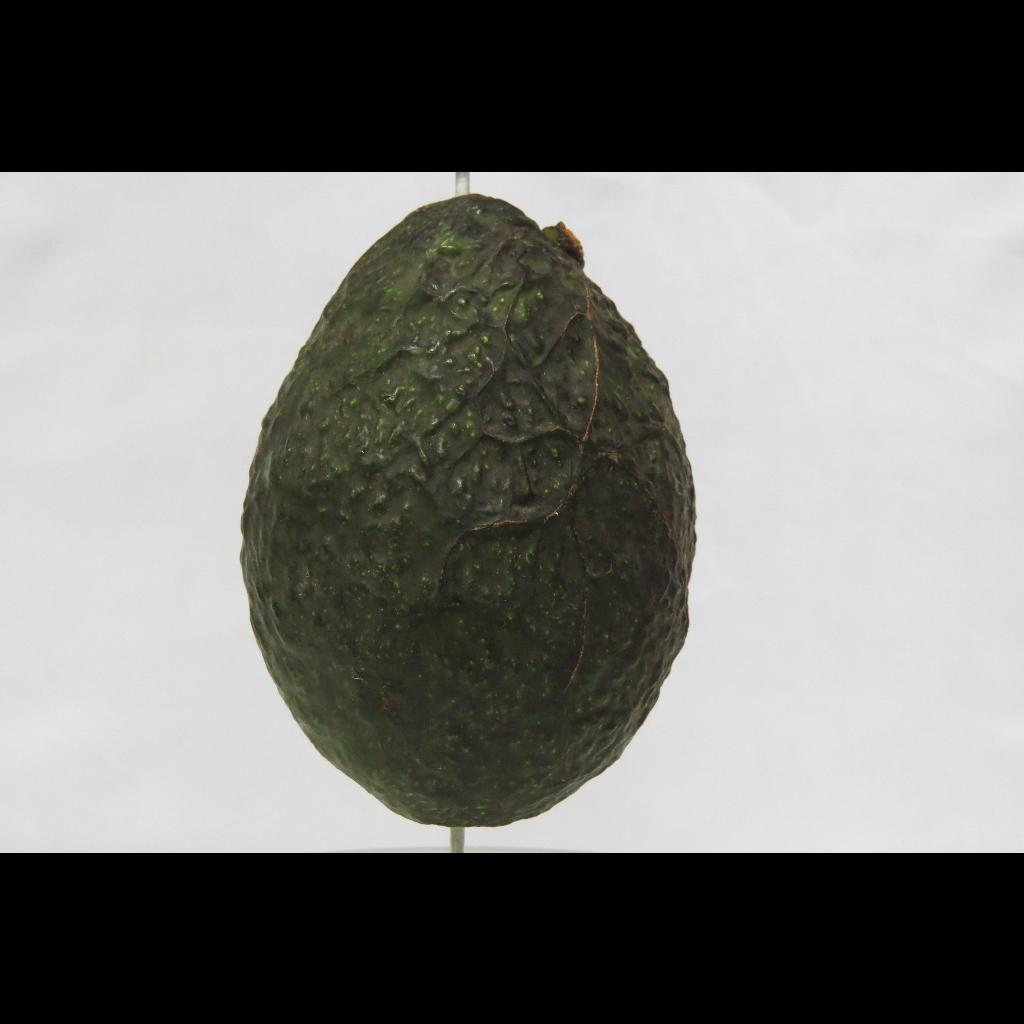Healthy: (212, 181, 740, 837)
